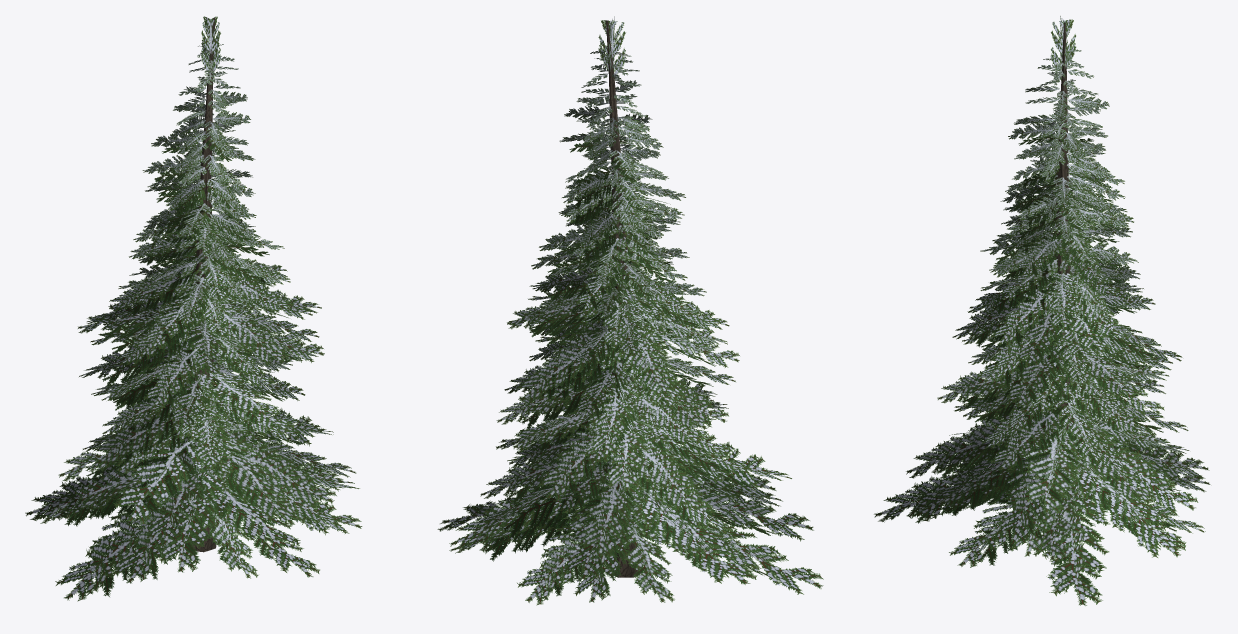
The model's file is w_fir3.glb.
The picture shows the model from 3 angles, left to right: view 1: azimuth 30°, elevation 25°; view 2: azimuth 150°, elevation 25°; view 3: azimuth 270°, elevation 25°; orthographic projection. The views are drawn at different scales.
Visible parts, largest first — view 1: w_fir3; view 2: w_fir3; view 3: w_fir3.
Boxes of the visible parts, x1,y1,x2,y2 form: w_fir3: (25, 16, 362, 601); w_fir3: (437, 16, 823, 605); w_fir3: (874, 16, 1210, 605).
Size of the model in its own units: 5.45 by 8.1 by 4.82.
Materials: 2 (2 with a texture image).
